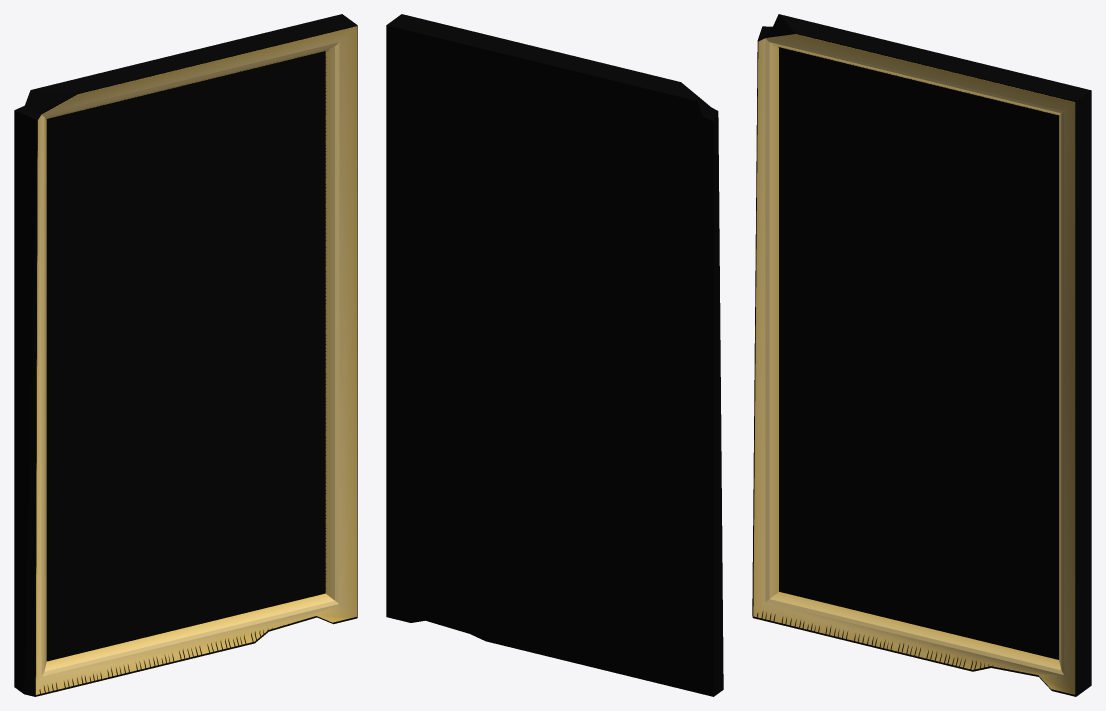
Rendered from PictureFrame_Vertical.glb.
The picture shows the model from 3 angles, left to right: view 1: azimuth 30°, elevation 25°; view 2: azimuth 150°, elevation 25°; view 3: azimuth 330°, elevation 25°; orthographic projection.
Visible parts, largest first — view 1: PictureFrame_Vertical; view 2: PictureFrame_Vertical; view 3: PictureFrame_Vertical.
Part boxes in pixels (x1,y1,x2,y2): PictureFrame_Vertical: (14, 14, 357, 696); PictureFrame_Vertical: (386, 14, 723, 696); PictureFrame_Vertical: (752, 14, 1091, 696).
Bounding box in the file's own units: 2.62 × 4.53 × 0.2207.
Materials: 3 (2 with a texture image).
